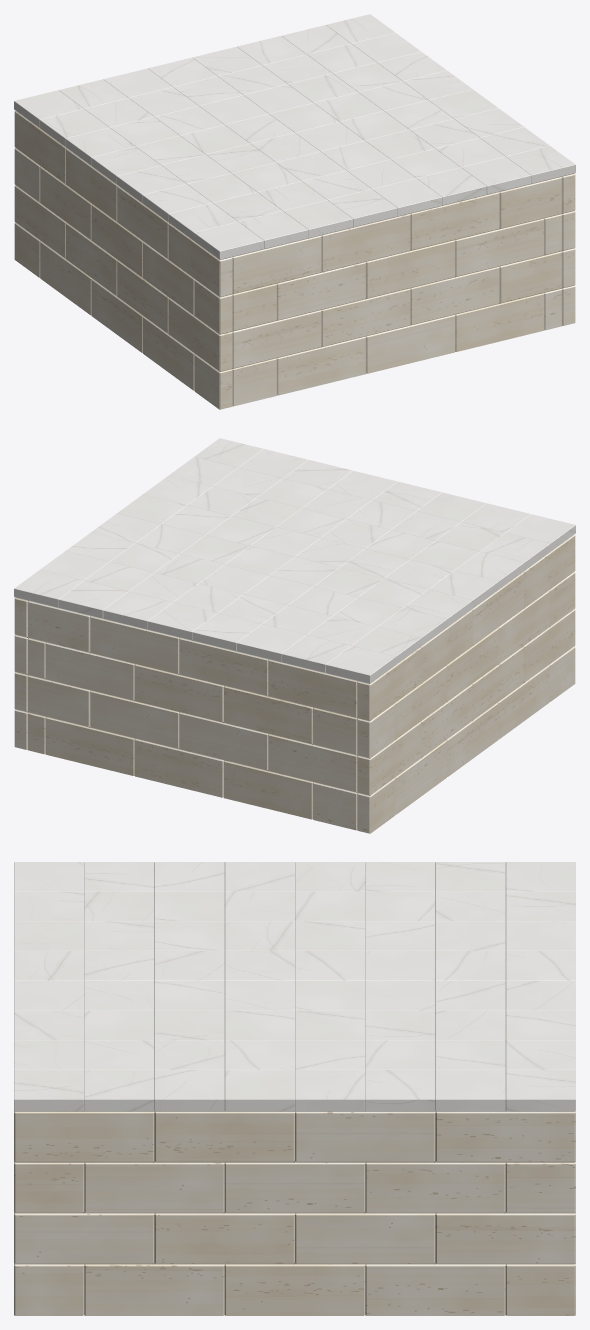
The picture shows the model from 3 angles, top to bottom: view 1: azimuth 30°, elevation 25°; view 2: azimuth 150°, elevation 25°; view 3: azimuth 270°, elevation 25°; orthographic projection. The views are drawn at different scales.
Visible parts, largest first — view 1: Mesh_block_8; view 2: Mesh_block_8; view 3: Mesh_block_8.
Boxes of the visible parts, x1,y1,x2,y2 form: Mesh_block_8: (14, 14, 575, 409); Mesh_block_8: (14, 438, 575, 833); Mesh_block_8: (14, 862, 575, 1315).
Size of the model in its own units: 8 by 3.4 by 8.
Materials: 1 (1 with a texture image).
